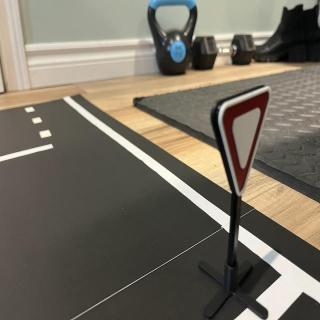sign_yield: (212, 88, 272, 197)
